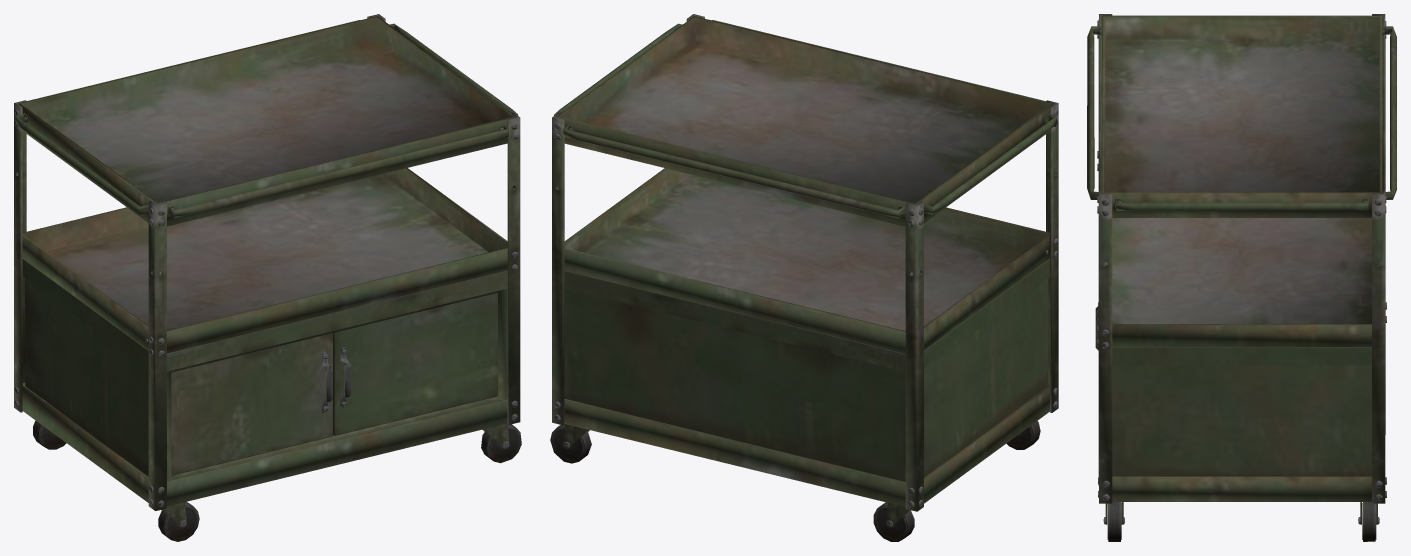
File: industrial_storage_cart.glb
The picture shows the model from 3 angles, left to right: view 1: azimuth 30°, elevation 25°; view 2: azimuth 150°, elevation 25°; view 3: azimuth 270°, elevation 25°; orthographic projection.
Parts seen in each view (by area): view 1: industrial_storage_cart; view 2: industrial_storage_cart; view 3: industrial_storage_cart.
Part boxes in pixels (<box>): industrial_storage_cart: <box>14,14,521,541</box>; industrial_storage_cart: <box>550,14,1058,541</box>; industrial_storage_cart: <box>1087,14,1396,541</box>.
Size of the model in its own units: 1.6 by 1.38 by 1.1.
Materials: 1 (1 with a texture image).
